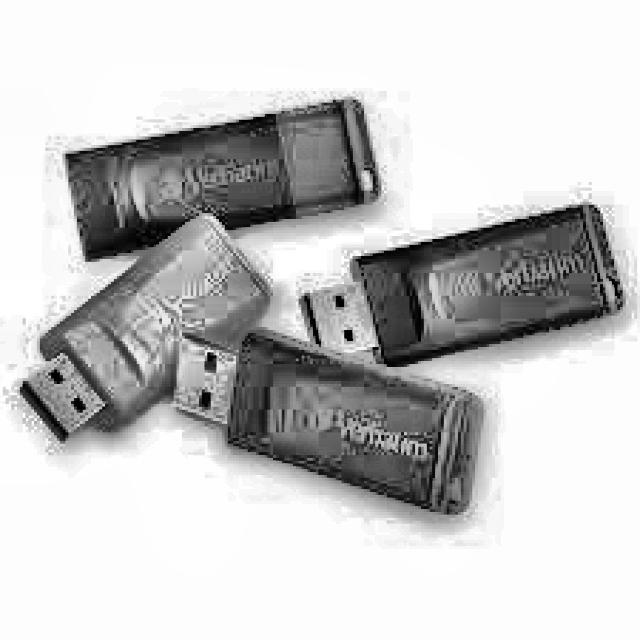Mug: (13, 206, 282, 453), (165, 322, 491, 525), (292, 190, 634, 371), (61, 89, 389, 269)
